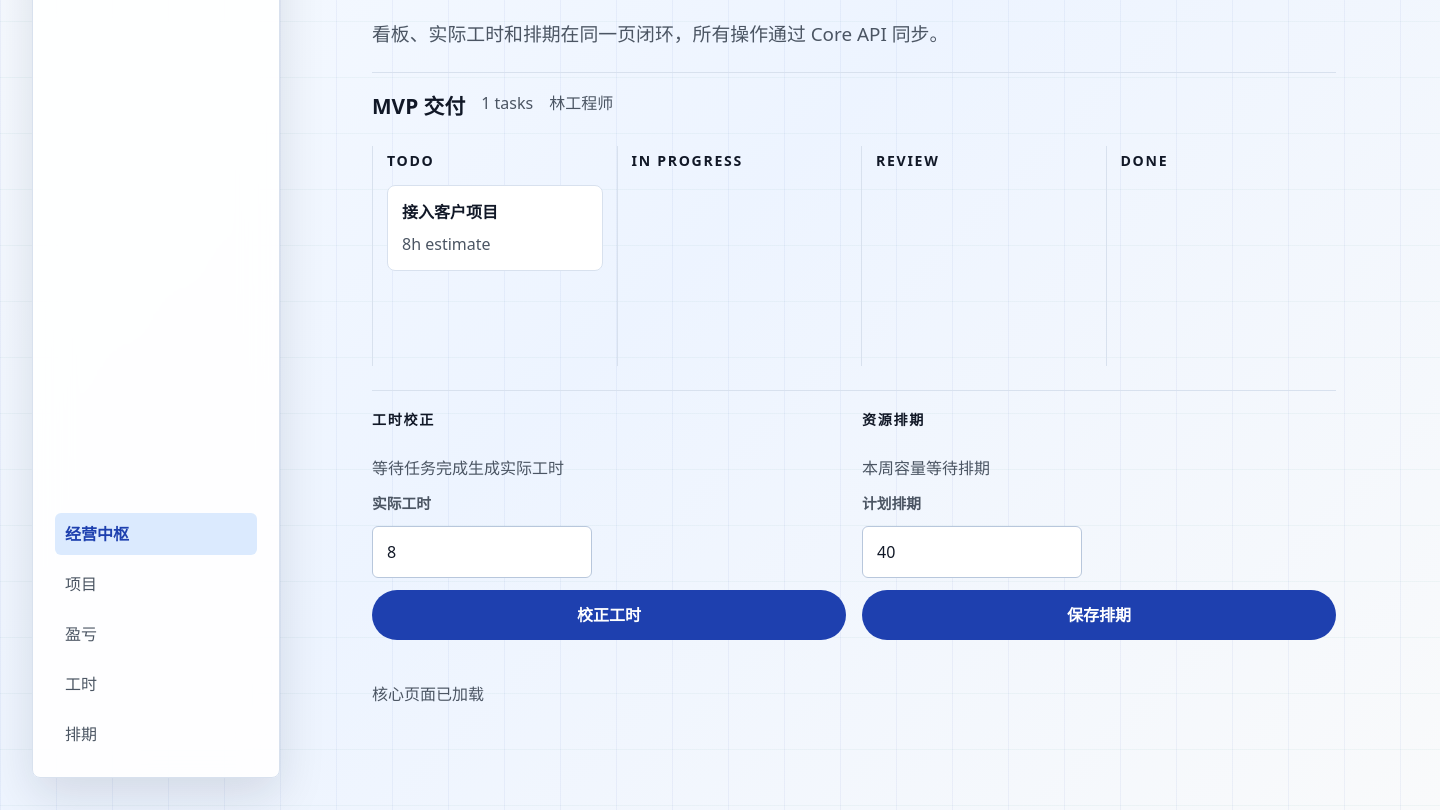
Test: Core project pages › corrects actual hours and reflects the updated cost signal
(page scrolled)
Expected: the text "接入客户项目" is shown, 402,201 -> 498,223
Replace the text in the number field labelled "实际工时" with "6": {"x": 482, "y": 552} 372,526 -> 592,578
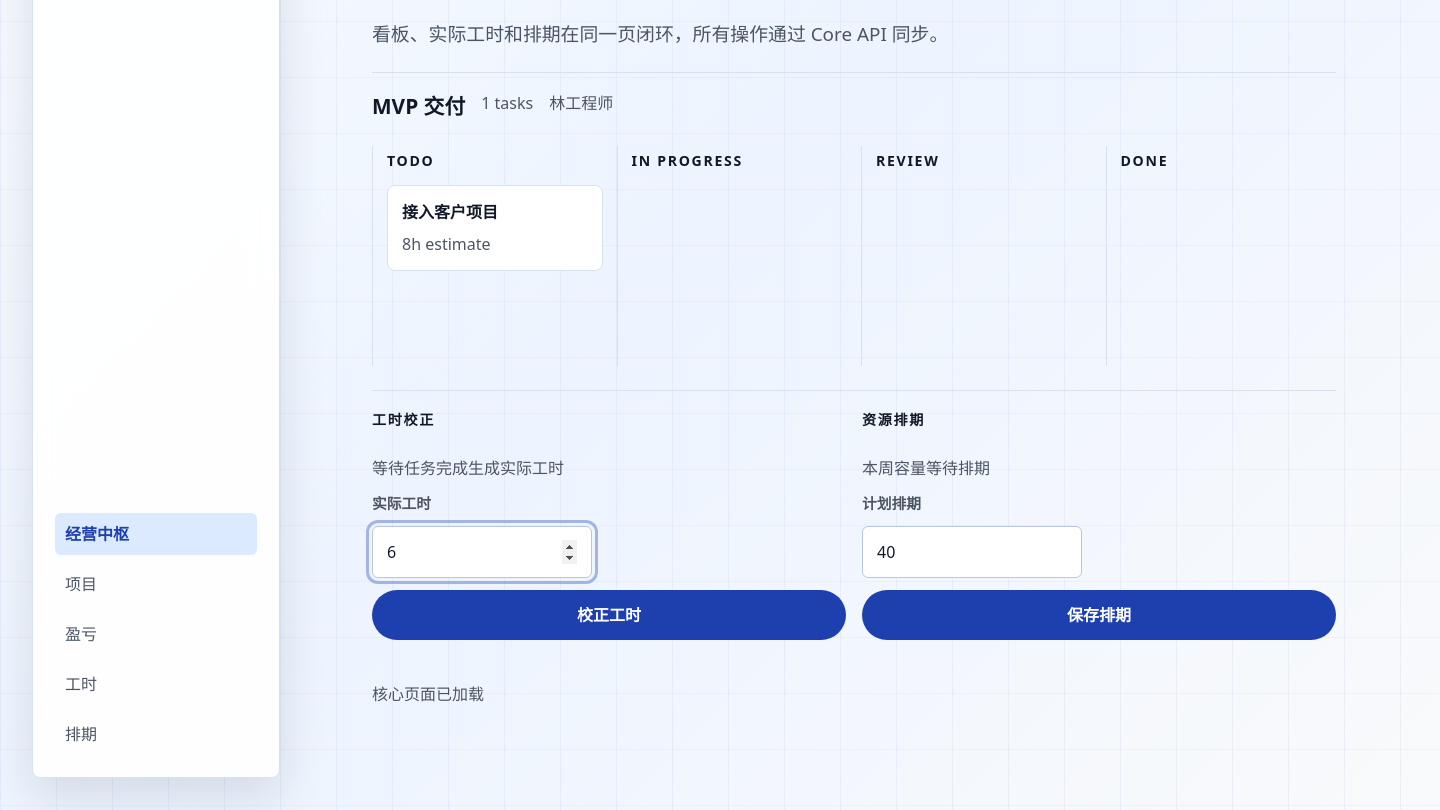
Click the button "校正工时": {"x": 609, "y": 615} 372,590 -> 846,640
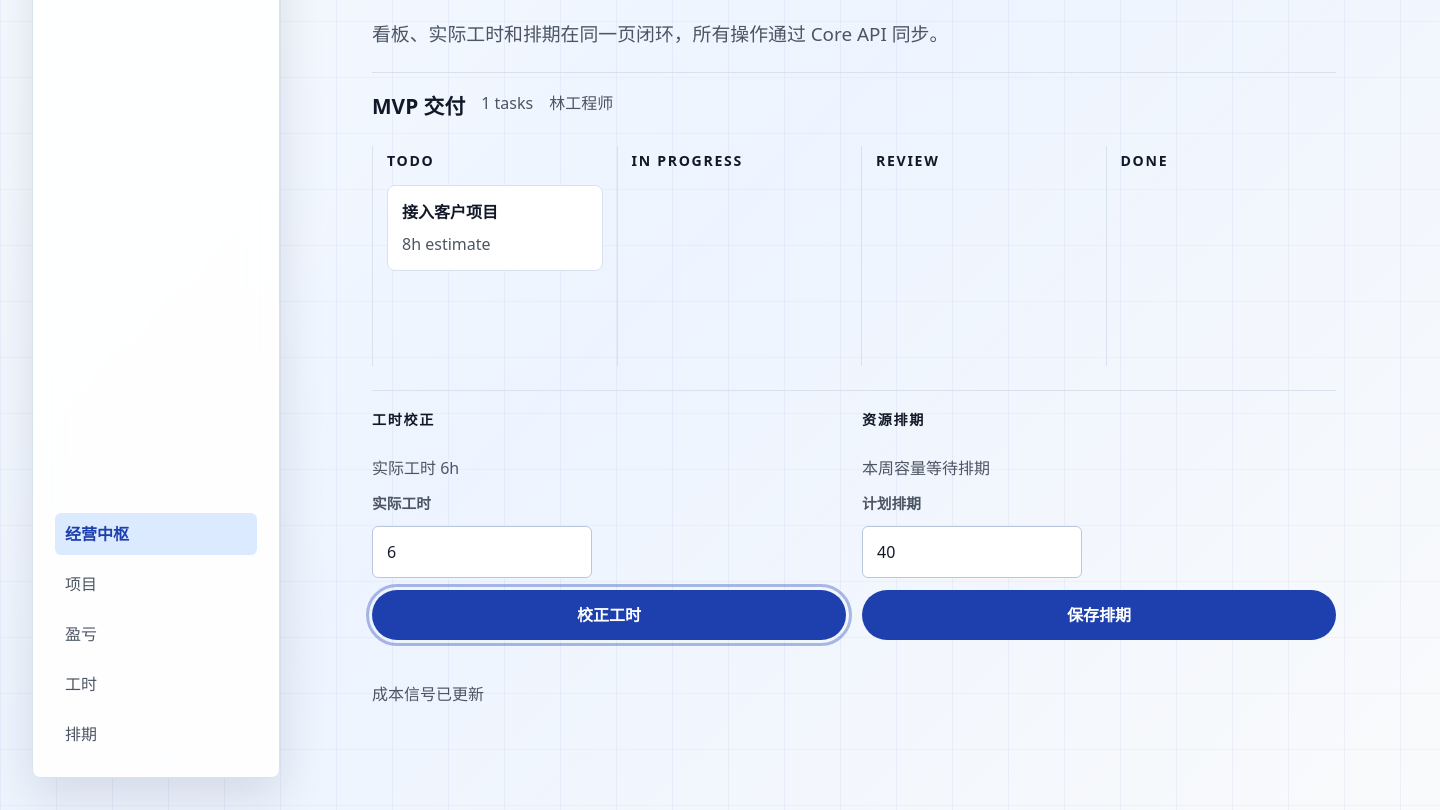
Expected: the text "实际工时 6h" is shown, 372,457 -> 459,479
Expected: the text "成本信号已更新" is shown, 372,683 -> 484,705
